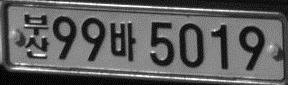0: (177, 22, 204, 68)
1: (208, 23, 235, 70)
5: (149, 21, 174, 67)
9: (237, 24, 265, 71), (80, 17, 106, 62), (51, 15, 76, 60)
바: (109, 22, 136, 62)
부산_V: (23, 13, 49, 59)
